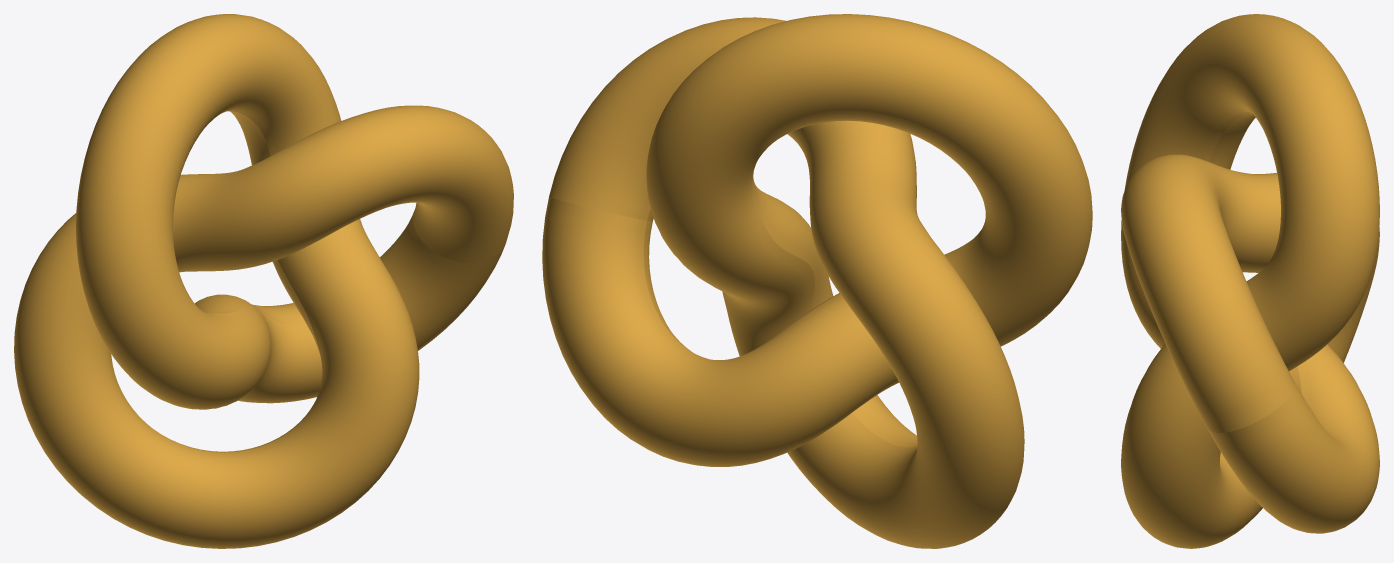
Rendered from sample-knot.glb.
3 views of the same model, side by side, from view 1: azimuth 30°, elevation 25°; view 2: azimuth 150°, elevation 25°; view 3: azimuth 270°, elevation 25° (orthographic). The views are drawn at different scales.
Visible parts, largest first — view 1: sample-knot; view 2: sample-knot; view 3: sample-knot.
Part boxes in pixels (<box>): sample-knot: <box>14,14,513,548</box>; sample-knot: <box>542,14,1092,548</box>; sample-knot: <box>1121,14,1379,548</box>.
Bounding box in the file's own units: 1.39 × 1.45 × 0.6799.
